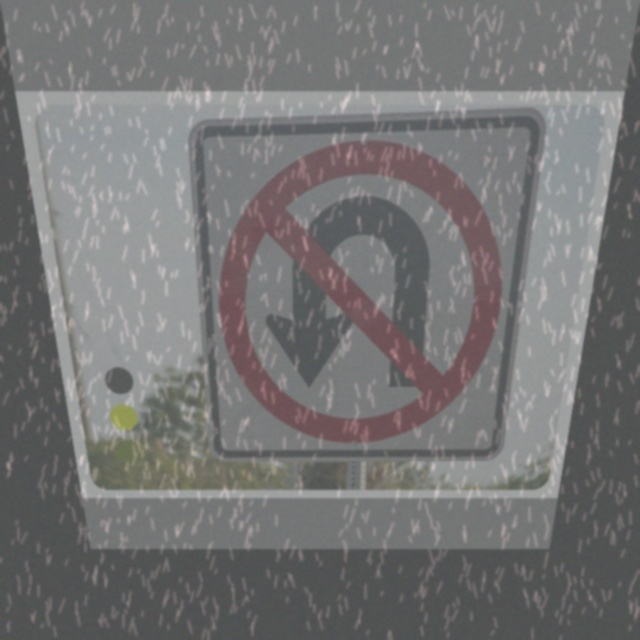U_Turn_Prohibited: (210, 135, 529, 448)
